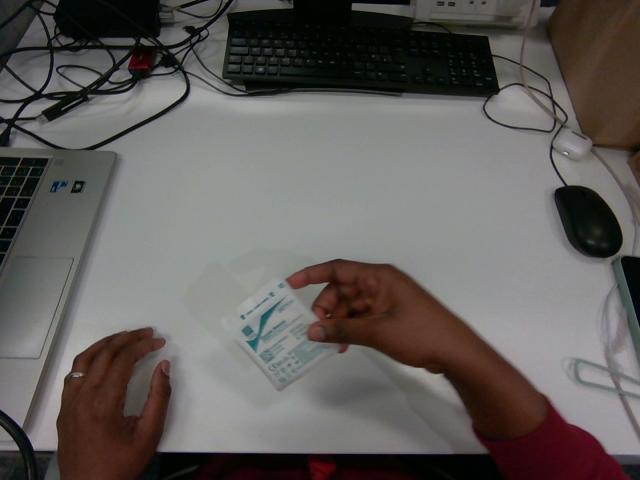gauze: (222, 278, 338, 389)
